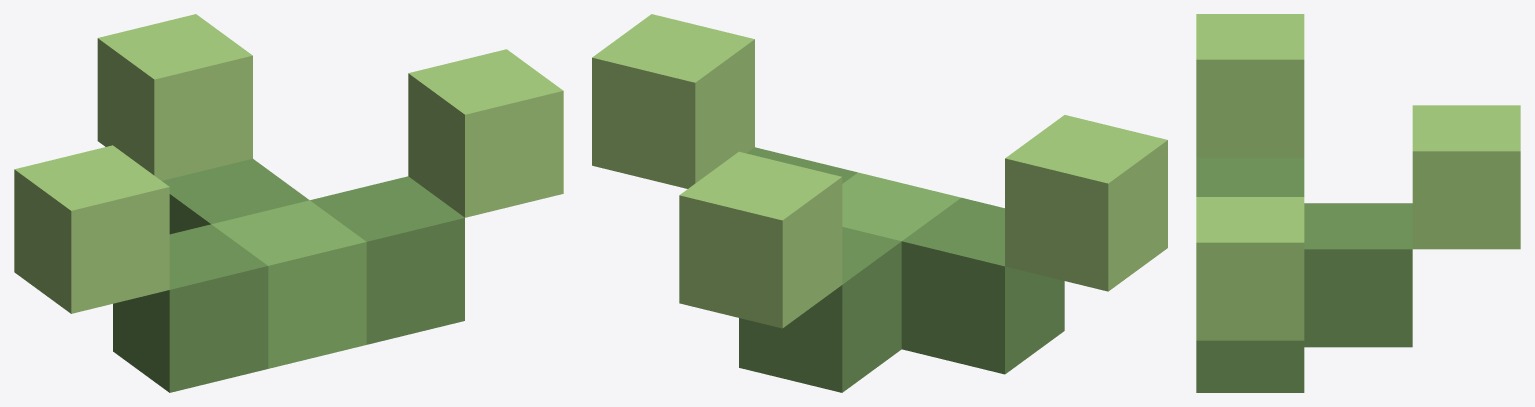
3 views of the same model, side by side, from view 1: azimuth 30°, elevation 25°; view 2: azimuth 150°, elevation 25°; view 3: azimuth 270°, elevation 25° (orthographic). The views are drawn at different scales.
Visible parts, largest first — view 1: grass_tuft_small_02; view 2: grass_tuft_small_02; view 3: grass_tuft_small_02.
Boxes of the visible parts, x1,y1,x2,y2 form: grass_tuft_small_02: [14, 14, 563, 392]; grass_tuft_small_02: [592, 14, 1167, 392]; grass_tuft_small_02: [1196, 14, 1520, 392].
Size of the model in its own units: 0.5 by 0.2 by 0.3.
Materials: 1 (1 with a texture image).
